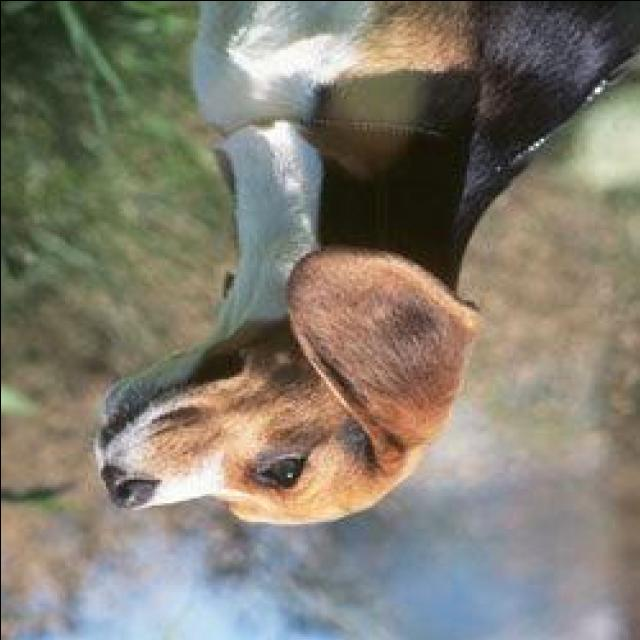beagle: (90, 2, 638, 530)
